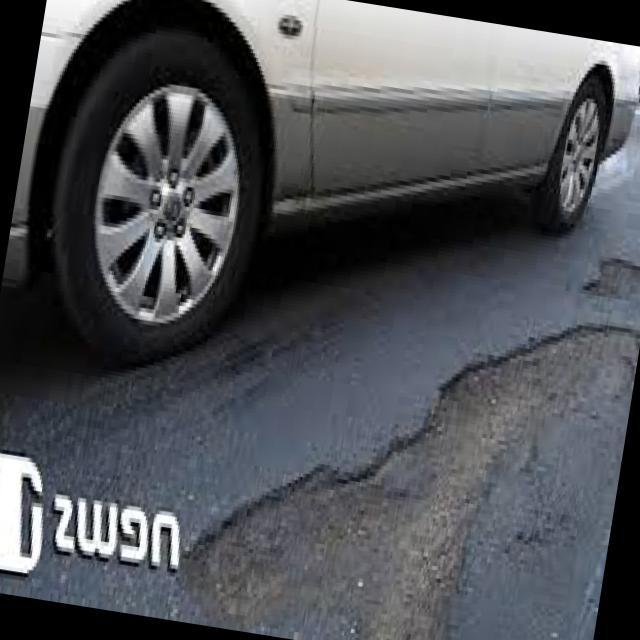pothole: (155, 258, 637, 640), (567, 234, 640, 310)
